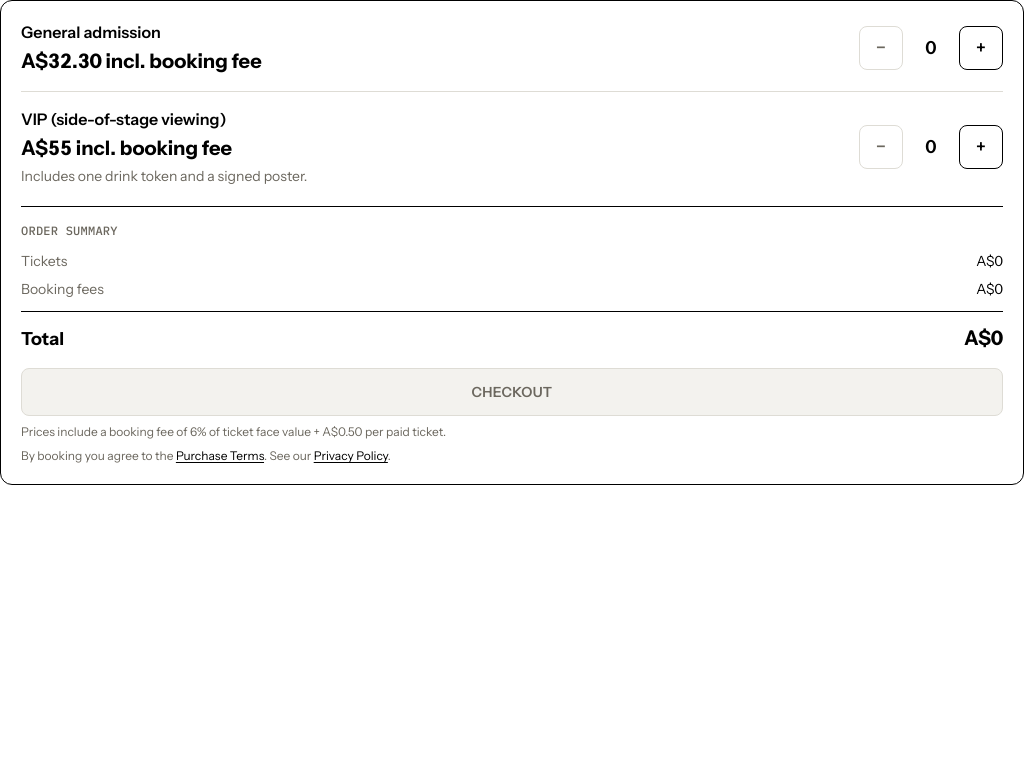
Test: Support Sheltüh in the ticket selector (general admission) › keyboard: Space on the chosen chip removes it
This screenshot has width=1024, height=768.
Click the button named "Increase quantity for General admission" at (981, 48), box [959,26,1003,70]
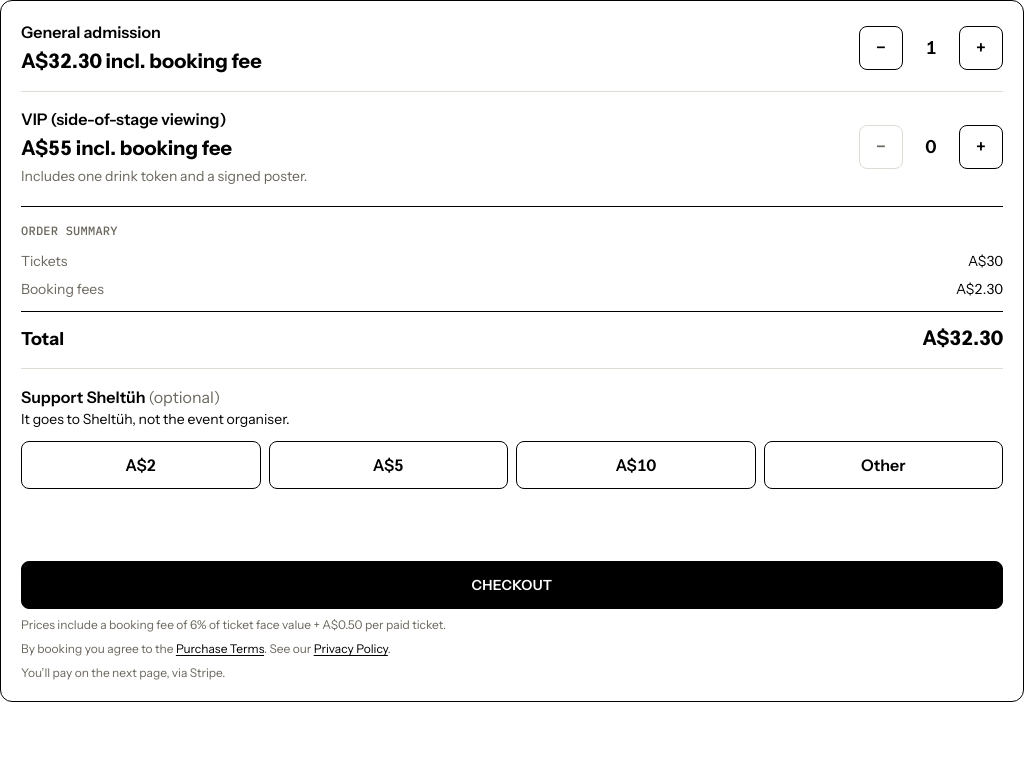
Click the radio button labelled "A$5" at (388, 465), box [268,441,508,489]
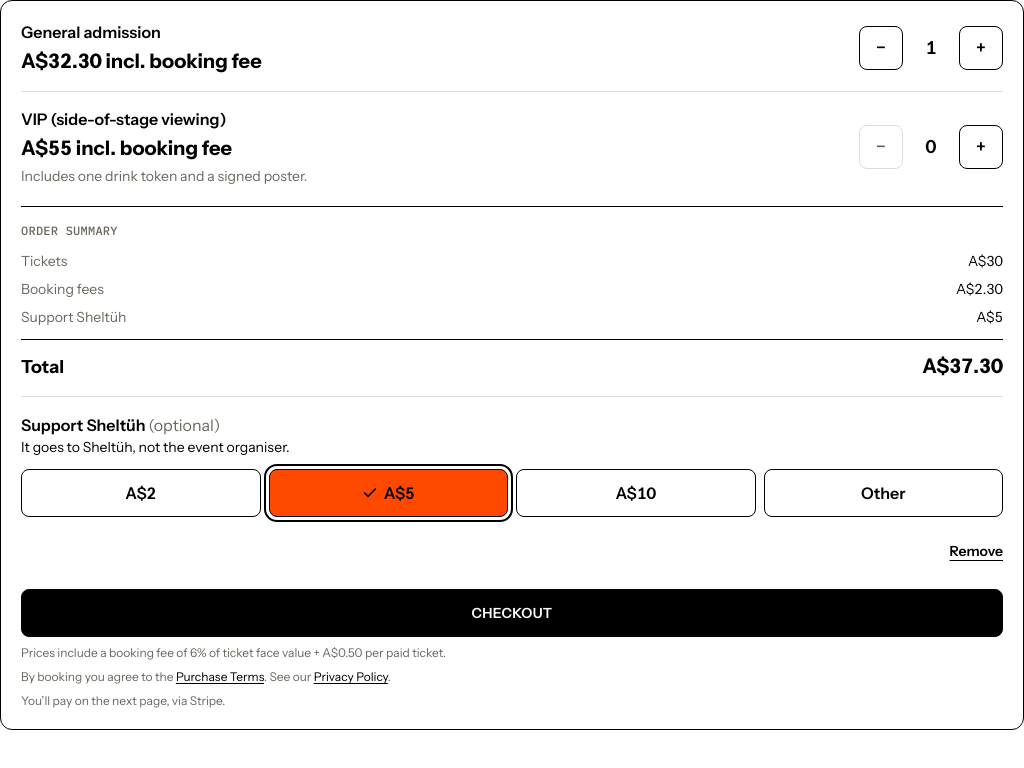
Press Space in the radio button labelled "A$2", box [21,469,260,517]
Press Space in the radio button labelled "A$5", box [268,469,508,517]
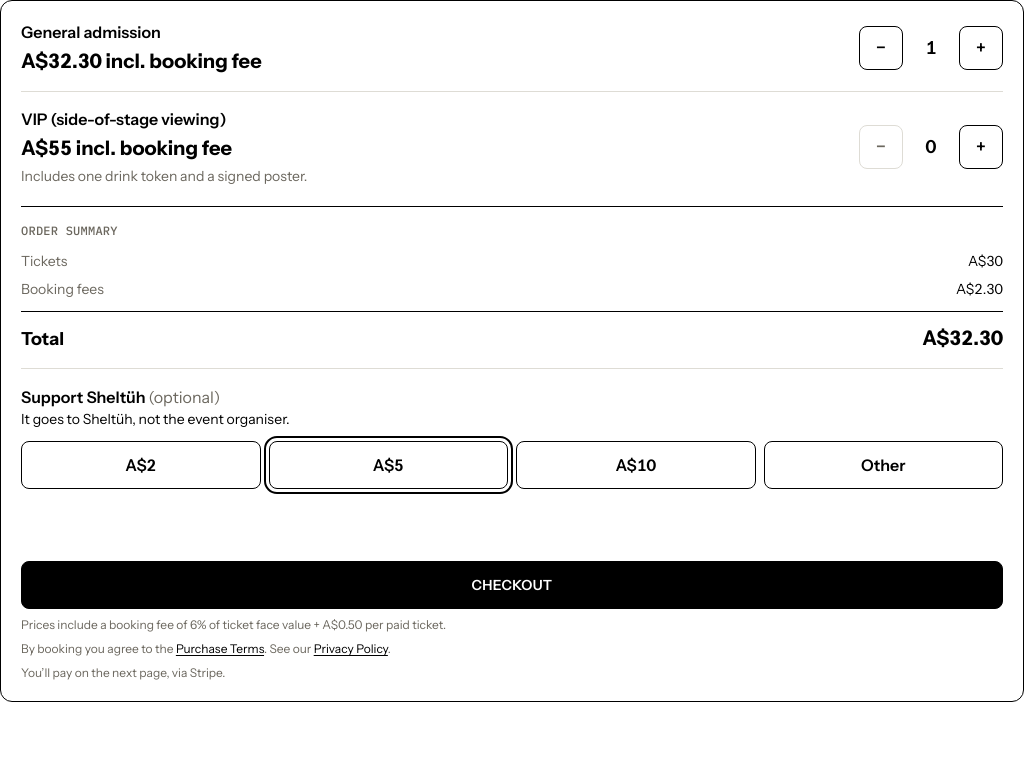
Check: the radio button labelled "A$5" is not checked, box [268,441,508,489]
Check: the text "A$32.30" is shown, box [922,324,1003,352]
